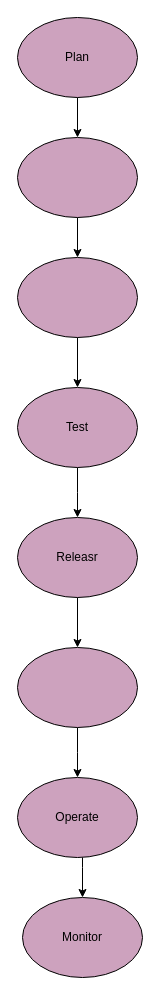
The diagram is 160 pixels wide and 995 high, and some of its shapes have lost their labels. Here are the shapes that lost their labels. From the top down, the centre of each, then its label:
At (77,177): "Develop".
At (77,297): "Build".
At (77,687): "Deploy".
